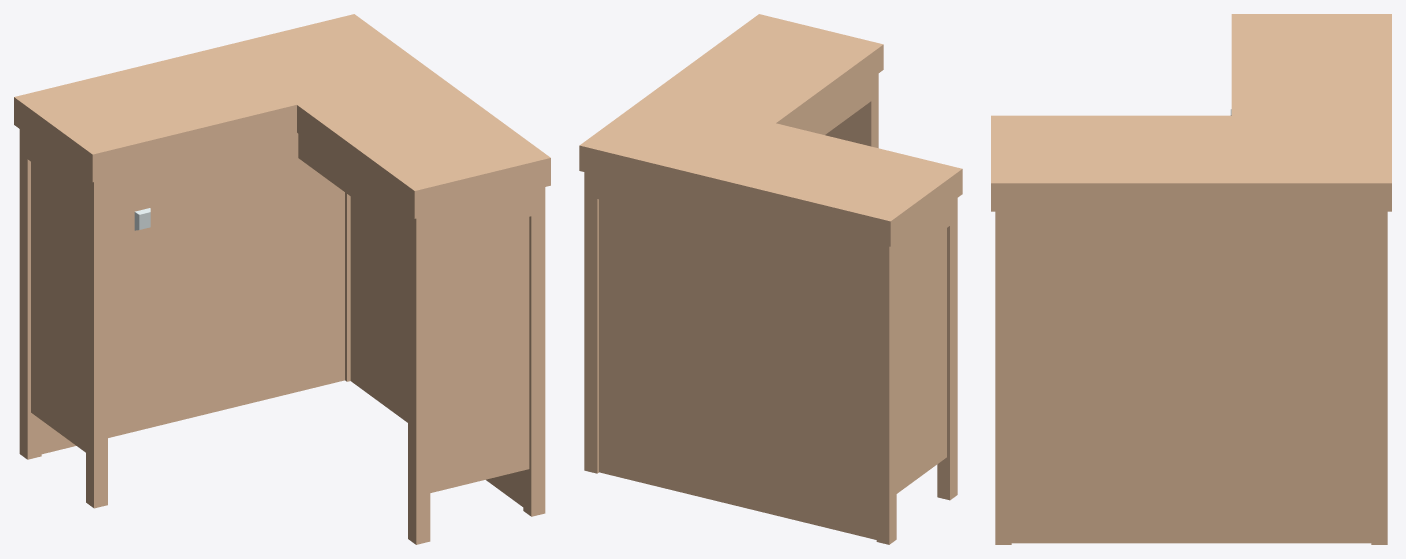
The model's file is kn-desk-corner.glb.
3 views of the same model, side by side, from view 1: azimuth 30°, elevation 25°; view 2: azimuth 150°, elevation 25°; view 3: azimuth 270°, elevation 25° (orthographic). The views are drawn at different scales.
Visible parts, largest first — view 1: deskCorner(Clone); view 2: deskCorner(Clone); view 3: deskCorner(Clone).
Part boxes in pixels (x1=…): deskCorner(Clone): x1=14, y1=14, x2=550, y2=544; deskCorner(Clone): x1=579, y1=14, x2=962, y2=544; deskCorner(Clone): x1=991, y1=14, x2=1391, y2=544.
Size of the model in its own units: 1 by 1 by 1.
